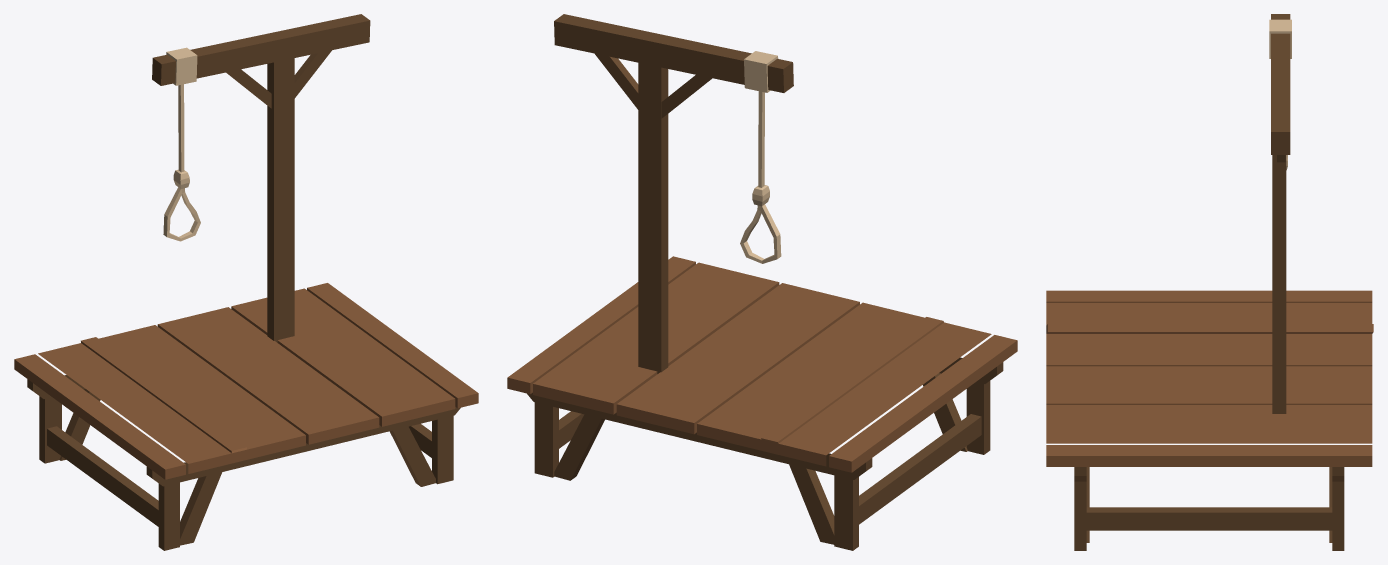
The model's file is medieval-gibbet.glb.
3 views of the same model, side by side, from view 1: azimuth 30°, elevation 25°; view 2: azimuth 150°, elevation 25°; view 3: azimuth 270°, elevation 25° (orthographic). The views are drawn at different scales.
Parts seen in each view (by area): view 1: gibbet; view 2: gibbet; view 3: gibbet.
Part boxes in pixels (x1,y1,x2,y2): gibbet: (14,14,478,550); gibbet: (507,14,1017,550); gibbet: (1046,14,1373,550).
Bounding box in the file's own units: 3.43 × 4.19 × 2.87.
